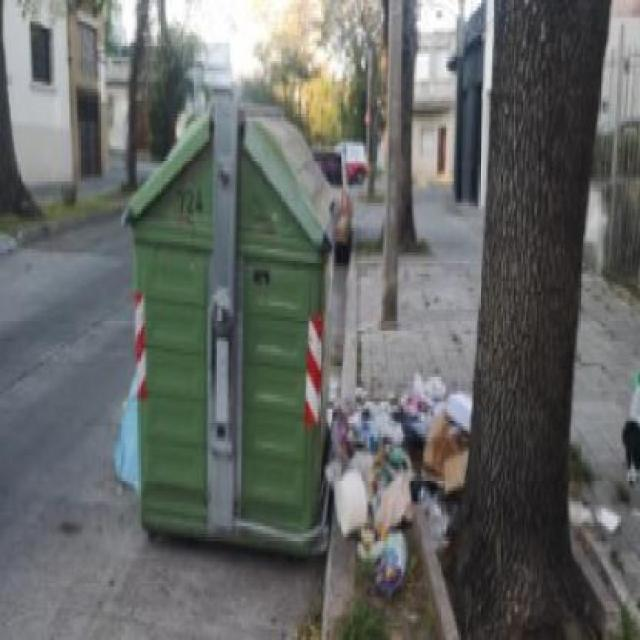garbage: (325, 391, 466, 580)
